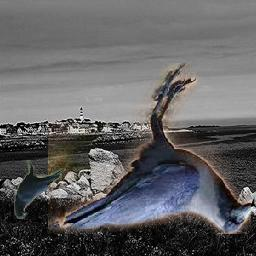Crow: (49, 64, 252, 235), (14, 161, 62, 220)
